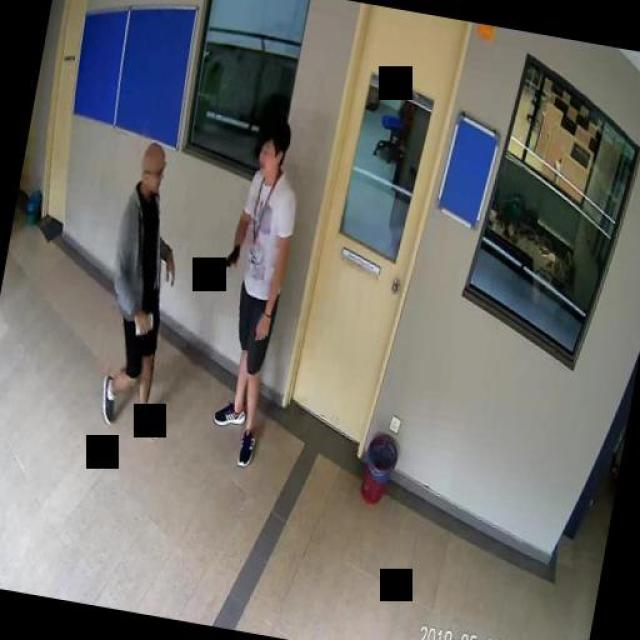gun: (219, 240, 240, 270)
